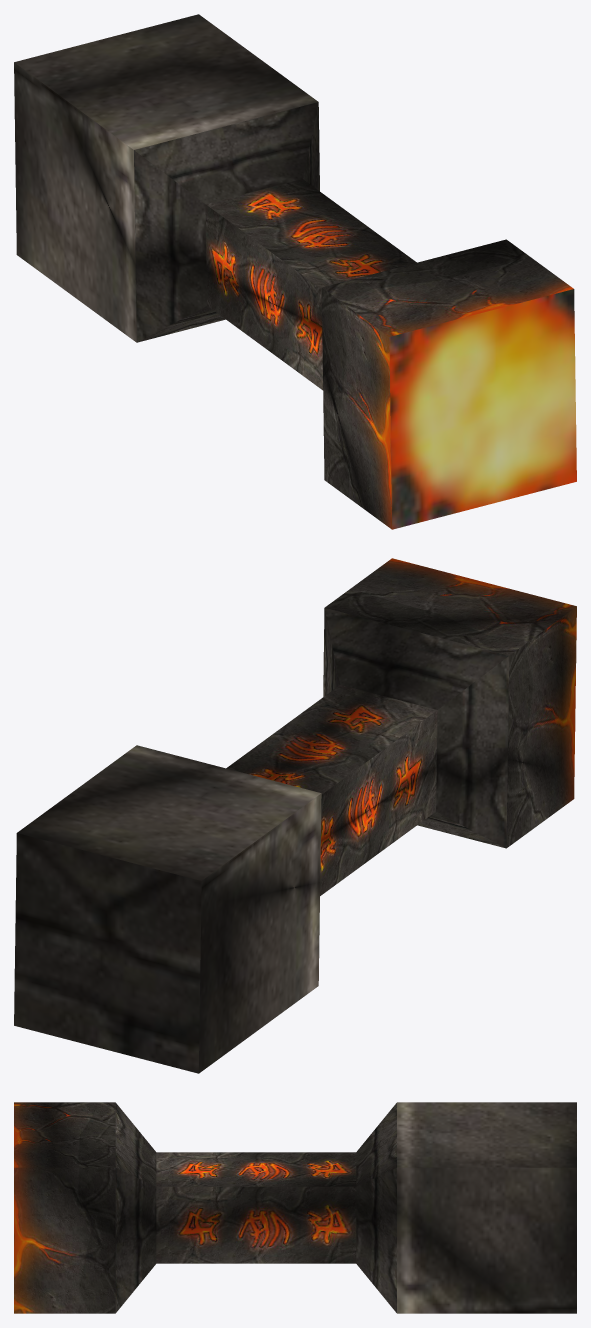
Rendered from column-B_06.obj.
3 views of the same model, one above another, from view 1: azimuth 30°, elevation 25°; view 2: azimuth 150°, elevation 25°; view 3: azimuth 270°, elevation 25° (orthographic). The views are drawn at different scales.
Visible parts, largest first — view 1: (null); view 2: (null); view 3: (null).
Boxes of the visible parts, x1=… form: (null): x1=14, y1=14, x2=576, y2=529; (null): x1=14, y1=558, x2=576, y2=1073; (null): x1=14, y1=1102, x2=576, y2=1313.
Size of the model in its own units: 1.26 by 1.26 by 4.38.
